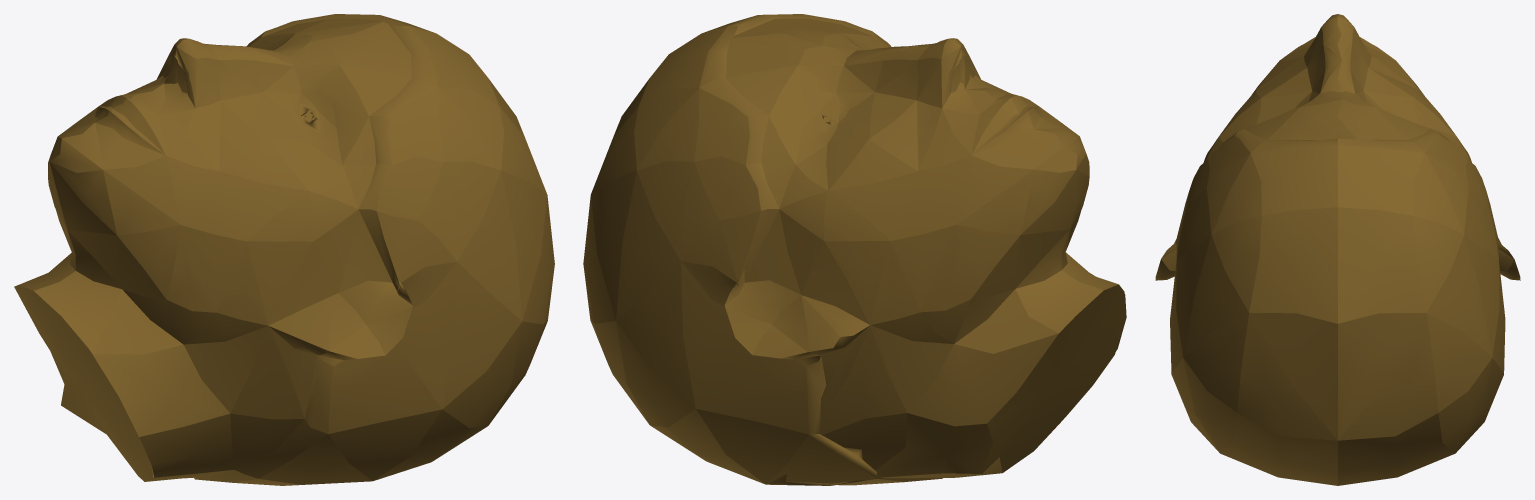
3 views of the same model, side by side, from view 1: azimuth 30°, elevation 25°; view 2: azimuth 150°, elevation 25°; view 3: azimuth 270°, elevation 25° (orthographic). The views are drawn at different scales.
Visible parts, largest first — view 1: Cheveux, Cou, Joue droite, Front, Menton, Oreille droite, Sous-face, Bouche, Arche, Nez, Bosse droite, Oeil droit (+1 smaller); view 2: Cheveux, Cou, Joue gauche, Front, Menton, Oreille gauche, Sous-face, Bouche, Arche, Nez, Bosse gauche, Oeil gauche (+1 smaller); view 3: Cheveux, Front, Joue droite, Joue gauche, Arche, Nez, Pointe, Oreille droite, Oreille gauche.
Boxes of the visible parts, left/top/right/bottom form: Cheveux: left=194, top=14, right=554, bottom=485; Cou: left=14, top=253, right=316, bottom=481; Joue droite: left=117, top=82, right=341, bottom=325; Front: left=249, top=18, right=411, bottom=292; Menton: left=48, top=106, right=180, bottom=235; Oreille droite: left=268, top=270, right=412, bottom=366; Sous-face: left=55, top=209, right=267, bottom=344; Bouche: left=95, top=93, right=165, bottom=155; Arche: left=204, top=43, right=293, bottom=92; Nez: left=219, top=60, right=301, bottom=108; Bosse droite: left=177, top=47, right=220, bottom=108; Oeil droit: left=288, top=93, right=336, bottom=144; Cheveux: left=583, top=14, right=942, bottom=485; Cou: left=819, top=252, right=1126, bottom=478; Joue gauche: left=801, top=82, right=1019, bottom=324; Front: left=726, top=18, right=889, bottom=294; Menton: left=956, top=106, right=1089, bottom=235; Oreille gauche: left=724, top=270, right=869, bottom=366; Sous-face: left=870, top=208, right=1081, bottom=343; Bouche: left=971, top=93, right=1042, bottom=154; Arche: left=844, top=43, right=933, bottom=91; Nez: left=836, top=60, right=918, bottom=108; Bosse gauche: left=917, top=47, right=960, bottom=107; Oeil gauche: left=801, top=93, right=849, bottom=143; Cheveux: left=1170, top=129, right=1505, bottom=485; Front: left=1203, top=91, right=1471, bottom=162; Joue droite: left=1215, top=45, right=1312, bottom=141; Joue gauche: left=1363, top=45, right=1459, bottom=140; Arche: left=1312, top=34, right=1363, bottom=93; Nez: left=1295, top=45, right=1380, bottom=108; Pointe: left=1321, top=14, right=1353, bottom=44; Oreille droite: left=1155, top=239, right=1176, bottom=280; Oreille gauche: left=1498, top=238, right=1520, bottom=280.
Size of the model in its own units: 31.02 by 27.43 by 23.
